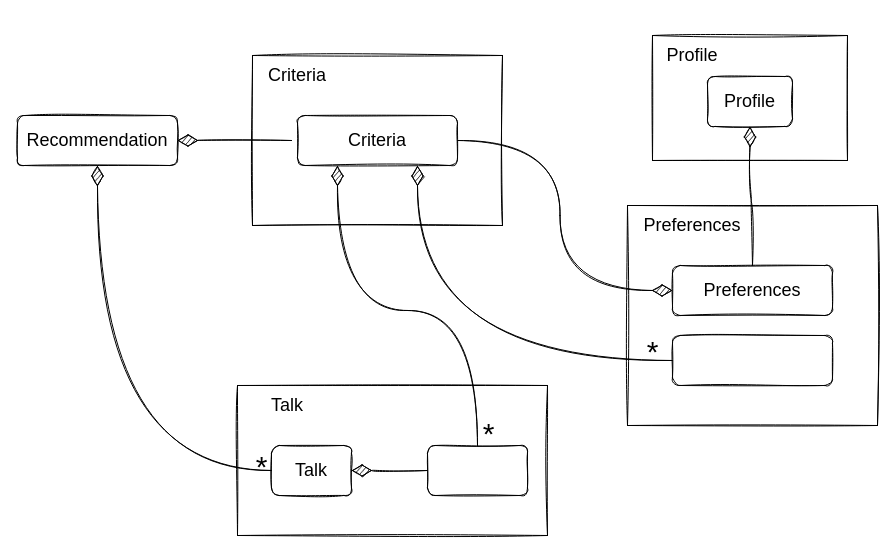
The diagram is 895 pixels wide and 554 high, and some of its shapes have lost their labels. Each missing label, with the centre of its shape:
"TalkFormat" belongs at point (477, 470).
"Topic" belongs at point (752, 360).
